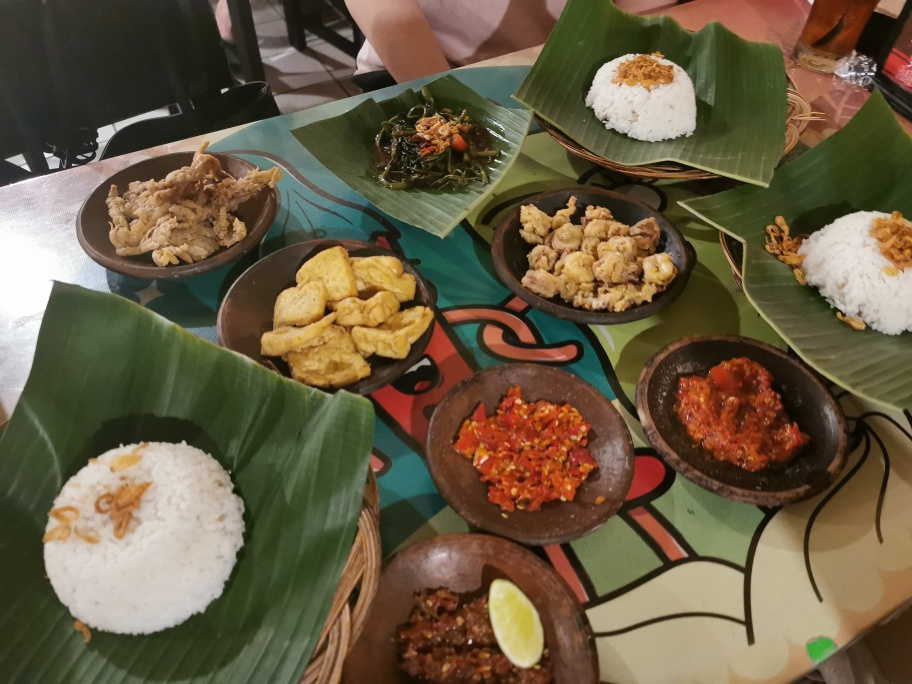nasi putih: (41, 440, 253, 632), (589, 51, 699, 142)
